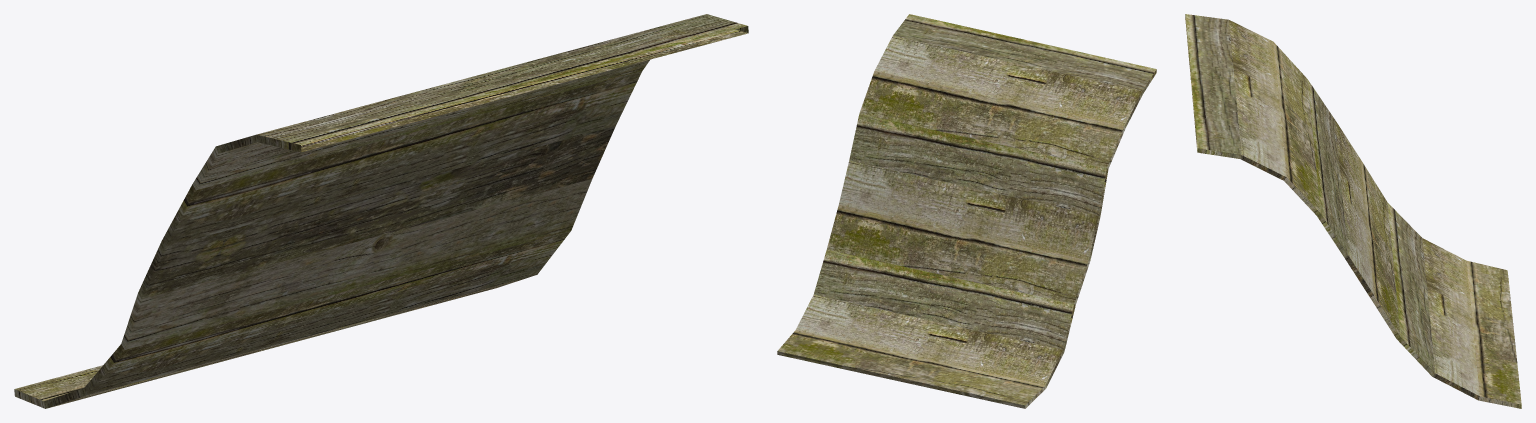
File: ramp_02_colider.fbx
3 renders of one model, left to right at view 1: azimuth 30°, elevation 25°; view 2: azimuth 150°, elevation 25°; view 3: azimuth 270°, elevation 25°, orthographic. The views are drawn at different scales.
Parts seen in each view (by area): view 1: ramp__2_; view 2: ramp__2_; view 3: ramp__2_.
Part boxes in pixels (bbox=[...]): ramp__2_: bbox=[14, 14, 748, 408]; ramp__2_: bbox=[777, 14, 1156, 408]; ramp__2_: bbox=[1185, 14, 1521, 408].
Size of the model in its own units: 210 by 185 by 211.
